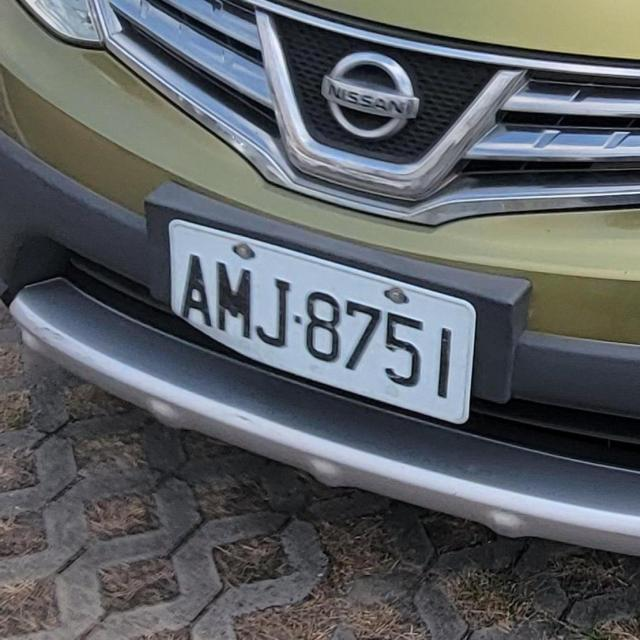W: (165, 219, 482, 429)
